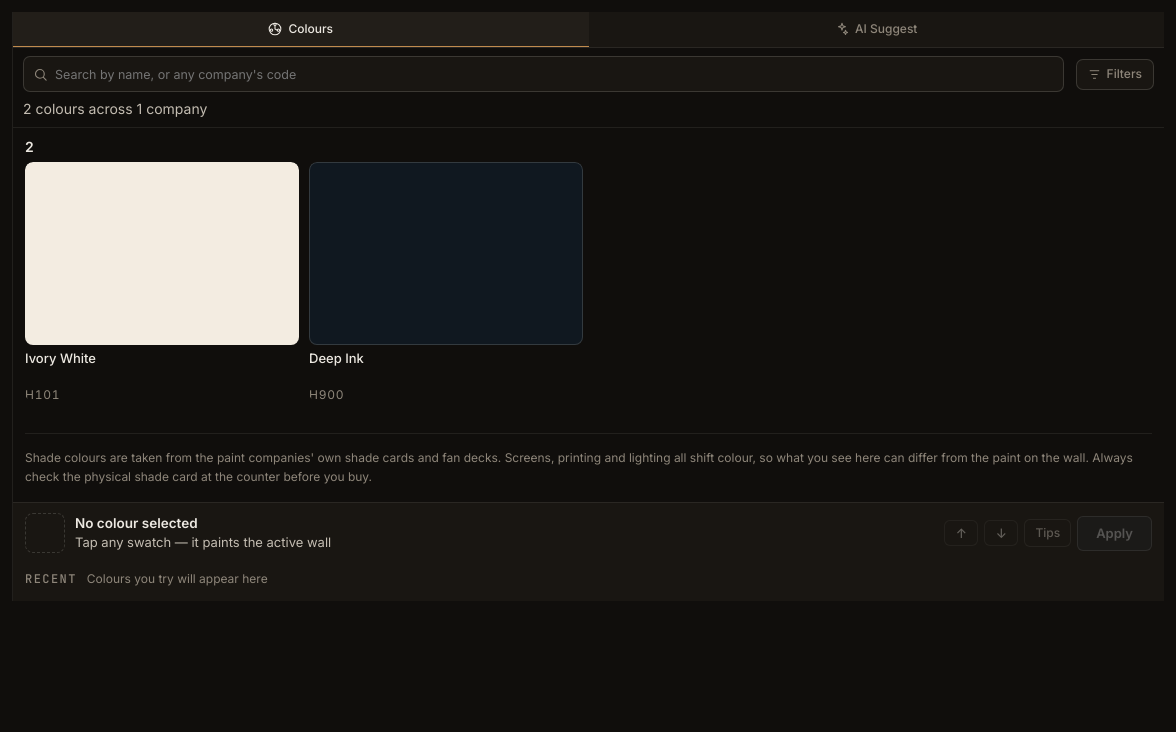
Scenario: searching another company's code in the studio › does not tell a customer which company a shade belongs to
In the field labelled "Search by name, or any company's code": (554, 74) left=55, top=62, right=1054, bottom=86, type "L124"
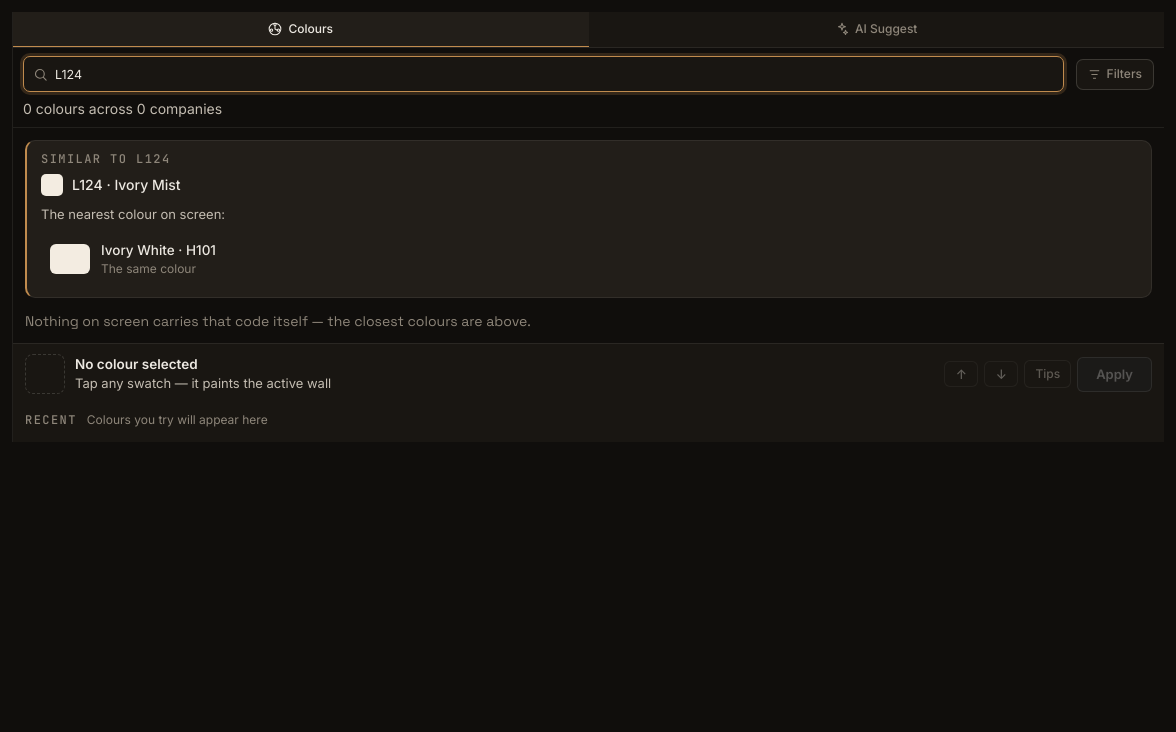
Now the text "Similar to L124" is shown, box left=41, top=151, right=171, bottom=167
